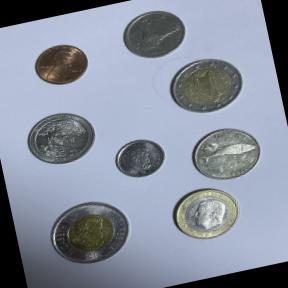coin: (36, 189, 138, 276), (160, 47, 250, 122), (182, 116, 268, 189), (18, 103, 103, 172), (162, 180, 246, 246), (26, 35, 97, 94), (106, 128, 174, 188)
